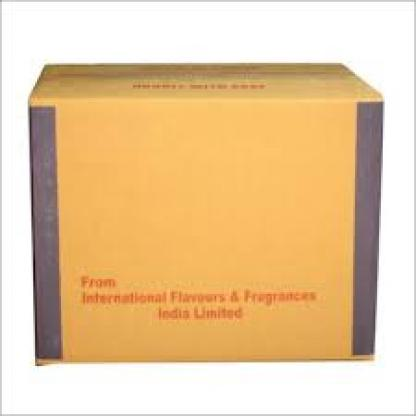Aluminum can: (19, 41, 403, 399)
